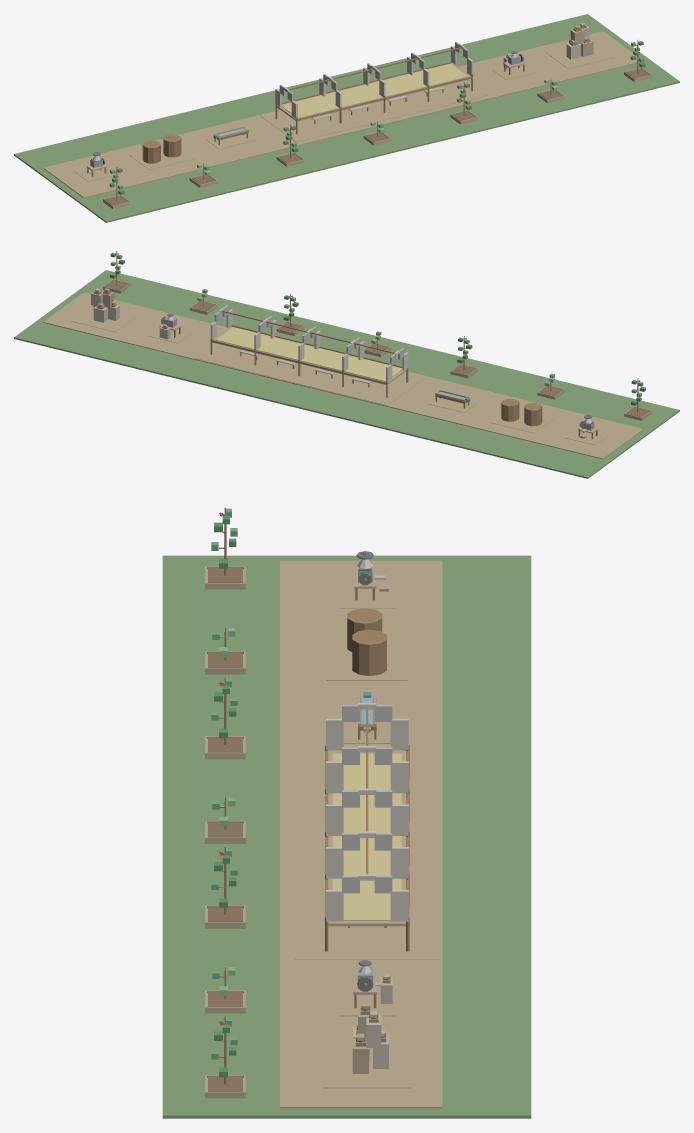
The model's file is cafe_layout.glb.
The picture shows the model from 3 angles, top to bottom: view 1: azimuth 30°, elevation 25°; view 2: azimuth 150°, elevation 25°; view 3: azimuth 270°, elevation 25°; orthographic projection. The views are drawn at different scales.
Visible parts, largest first — view 1: model; view 2: model; view 3: model.
Part boxes in pixels (x1=…): model: x1=14, y1=14, x2=679, y2=222; model: x1=14, y1=251, x2=679, y2=478; model: x1=162, y1=507, x2=531, y2=1118.
Bounding box in the file's own units: 32.7 × 2.2 × 9.1.
